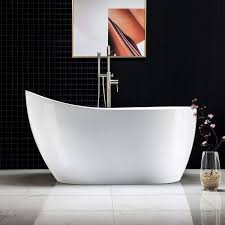bathub: (21, 81, 206, 188)
